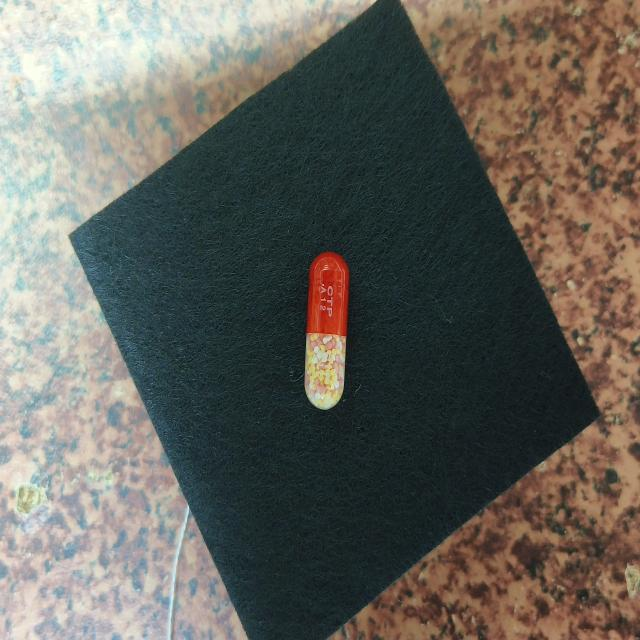Intact Capsule: (305, 251, 349, 409)
